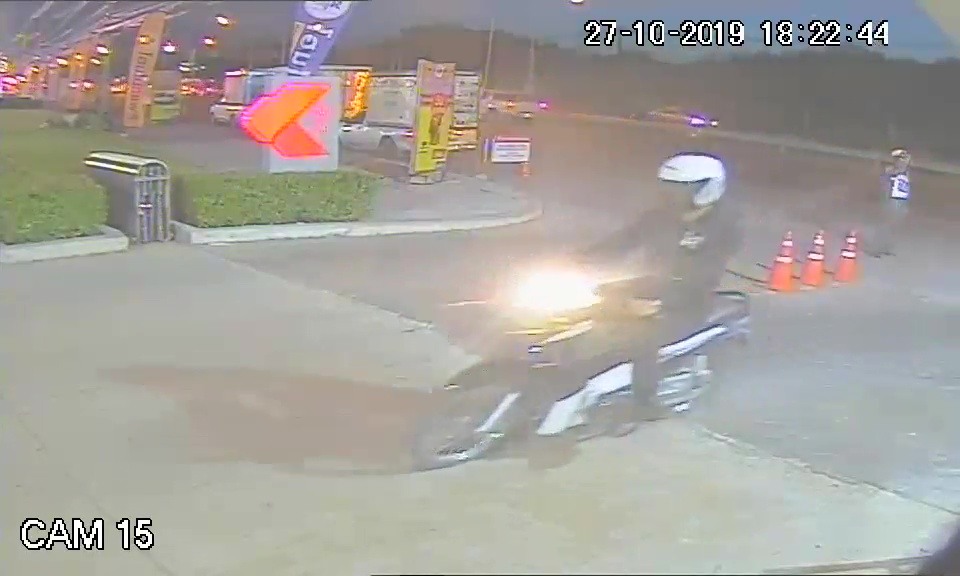motorcycle: (405, 270, 761, 477)
